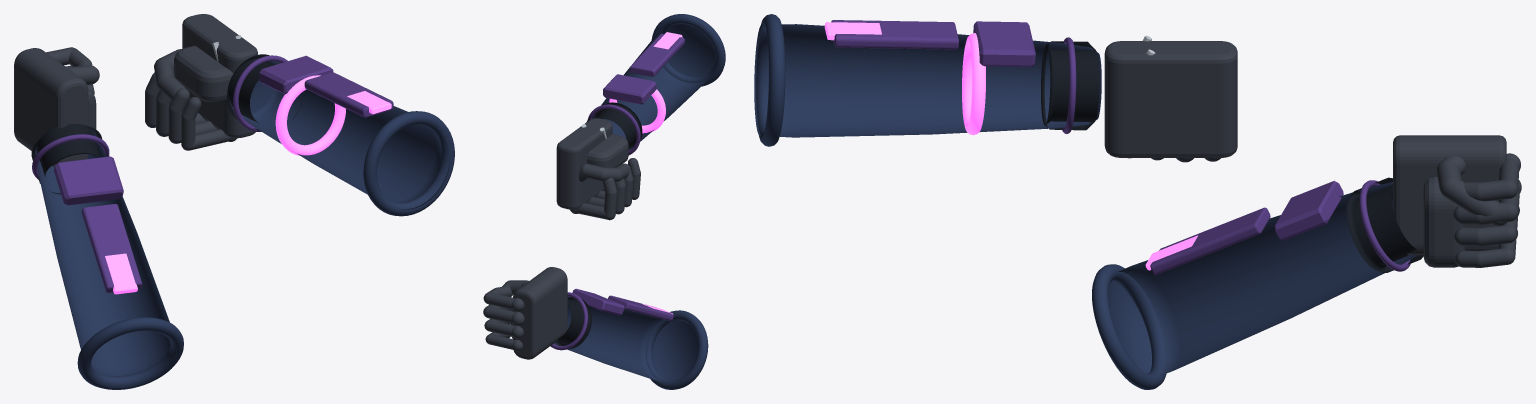
Rendered from hands_tempest_tool.glb.
3 renders of one model, left to right at view 1: azimuth 30°, elevation 25°; view 2: azimuth 150°, elevation 25°; view 3: azimuth 270°, elevation 25°, orthographic. The views are drawn at different scales.
Visible parts, largest first — view 1: hand_l_forearm, hand_r_forearm, hand_l_palm, hand_r_sleeve_roll, hand_r_palm, hand_l_sleeve_roll, hand_l_cuff_plate, hand_l_forearm_plate, hand_r_heel, hand_r_cap_ring, hand_l_cuff, hand_r_forearm_plate (+13 smaller); view 2: hand_l_forearm, hand_r_forearm, hand_l_palm, hand_r_palm, hand_l_sleeve_roll, hand_r_sleeve_roll, hand_r_cuff_plate, hand_r_forearm_plate, hand_r_heel, hand_l_cuff, hand_r_cuff, hand_r_finger3 (+15 smaller); view 3: hand_r_forearm, hand_l_forearm, hand_r_palm, hand_l_palm, hand_l_sleeve_roll, hand_r_cuff, hand_r_sleeve_roll, hand_l_cuff, hand_r_forearm_plate, hand_l_heel, hand_l_forearm_plate, hand_r_cuff_plate (+10 smaller).
Boxes of the visible parts, left/top/right/bottom form: hand_l_forearm: left=35, top=128, right=176, bottom=387; hand_r_forearm: left=230, top=58, right=450, bottom=209; hand_l_palm: left=14, top=48, right=88, bottom=167; hand_r_sleeve_roll: left=363, top=111, right=454, bottom=216; hand_r_palm: left=182, top=14, right=257, bottom=138; hand_l_sleeve_roll: left=77, top=317, right=183, bottom=389; hand_l_cuff_plate: left=54, top=156, right=123, bottom=205; hand_l_forearm_plate: left=81, top=204, right=142, bottom=292; hand_r_heel: left=174, top=45, right=233, bottom=102; hand_r_cap_ring: left=275, top=75, right=345, bottom=155; hand_l_cuff: left=31, top=123, right=107, bottom=194; hand_r_forearm_plate: left=304, top=72, right=393, bottom=117; hand_l_forearm: left=554, top=296, right=698, bottom=382; hand_r_forearm: left=592, top=24, right=715, bottom=150; hand_l_palm: left=513, top=267, right=567, bottom=359; hand_r_palm: left=556, top=118, right=612, bottom=209; hand_l_sleeve_roll: left=645, top=310, right=708, bottom=389; hand_r_sleeve_roll: left=651, top=14, right=725, bottom=86; hand_r_cuff_plate: left=603, top=74, right=656, bottom=104; hand_r_forearm_plate: left=629, top=33, right=684, bottom=76; hand_r_heel: left=587, top=134, right=628, bottom=167; hand_l_cuff: left=551, top=297, right=591, bottom=349; hand_r_cuff: left=586, top=102, right=642, bottom=153; hand_r_finger3: left=576, top=178, right=617, bottom=220; hand_r_forearm: left=754, top=24, right=1101, bottom=137; hand_l_forearm: left=1108, top=182, right=1417, bottom=375; hand_r_palm: left=1104, top=41, right=1237, bottom=157; hand_l_palm: left=1393, top=135, right=1506, bottom=255; hand_l_sleeve_roll: left=1092, top=264, right=1166, bottom=389; hand_r_cuff: left=1041, top=41, right=1099, bottom=130; hand_r_sleeve_roll: left=756, top=14, right=785, bottom=146; hand_l_cuff: left=1346, top=177, right=1423, bottom=272; hand_r_forearm_plate: left=831, top=20, right=958, bottom=49; hand_l_heel: left=1423, top=177, right=1464, bottom=267; hand_l_forearm_plate: left=1150, top=207, right=1270, bottom=274; hand_r_cuff_plate: left=973, top=21, right=1035, bottom=67.
Size of the model in its own units: 0.2264 by 0.3488 by 0.5539.
